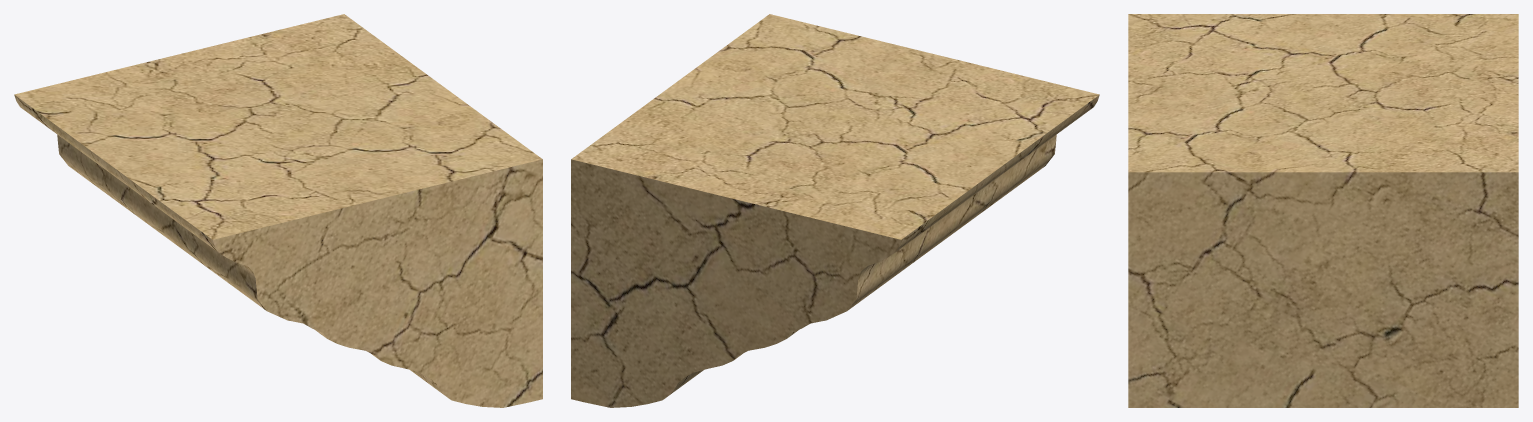
File: plataformaCurvaRectangulo.fbx
The picture shows the model from 3 angles, left to right: view 1: azimuth 30°, elevation 25°; view 2: azimuth 150°, elevation 25°; view 3: azimuth 270°, elevation 25°; orthographic projection.
Visible parts, largest first — view 1: plataformaCurvaRectangulo; view 2: plataformaCurvaRectangulo; view 3: plataformaCurvaRectangulo.
Boxes of the visible parts, bbox=[...] form: plataformaCurvaRectangulo: bbox=[14, 14, 542, 407]; plataformaCurvaRectangulo: bbox=[571, 14, 1099, 407]; plataformaCurvaRectangulo: bbox=[1128, 14, 1518, 407].
Bounding box in the file's own units: 2.88 × 2 × 3.
1 material, 1 textured.
